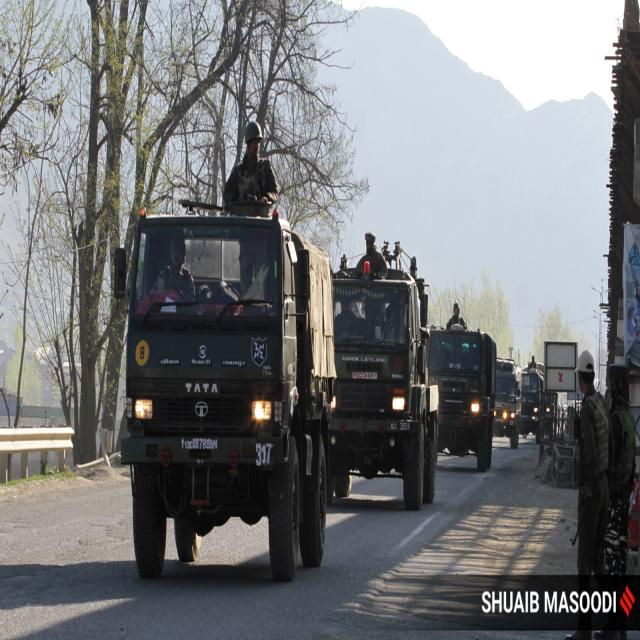military-plate: (179, 436, 219, 453)
unit number: (254, 438, 274, 469), (399, 421, 412, 431), (509, 420, 514, 426)
